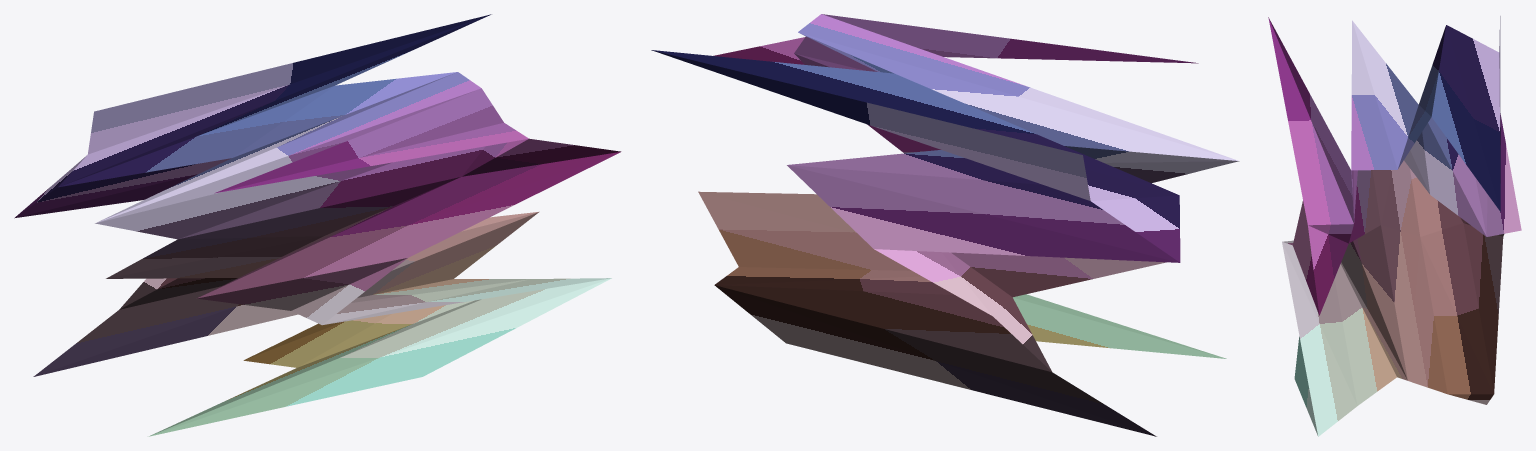
The picture shows the model from 3 angles, left to right: view 1: azimuth 30°, elevation 25°; view 2: azimuth 150°, elevation 25°; view 3: azimuth 270°, elevation 25°; orthographic projection. The views are drawn at different scales.
Size of the model in its own units: 42.49 by 19.13 by 17.46.
1 material, 1 textured.
